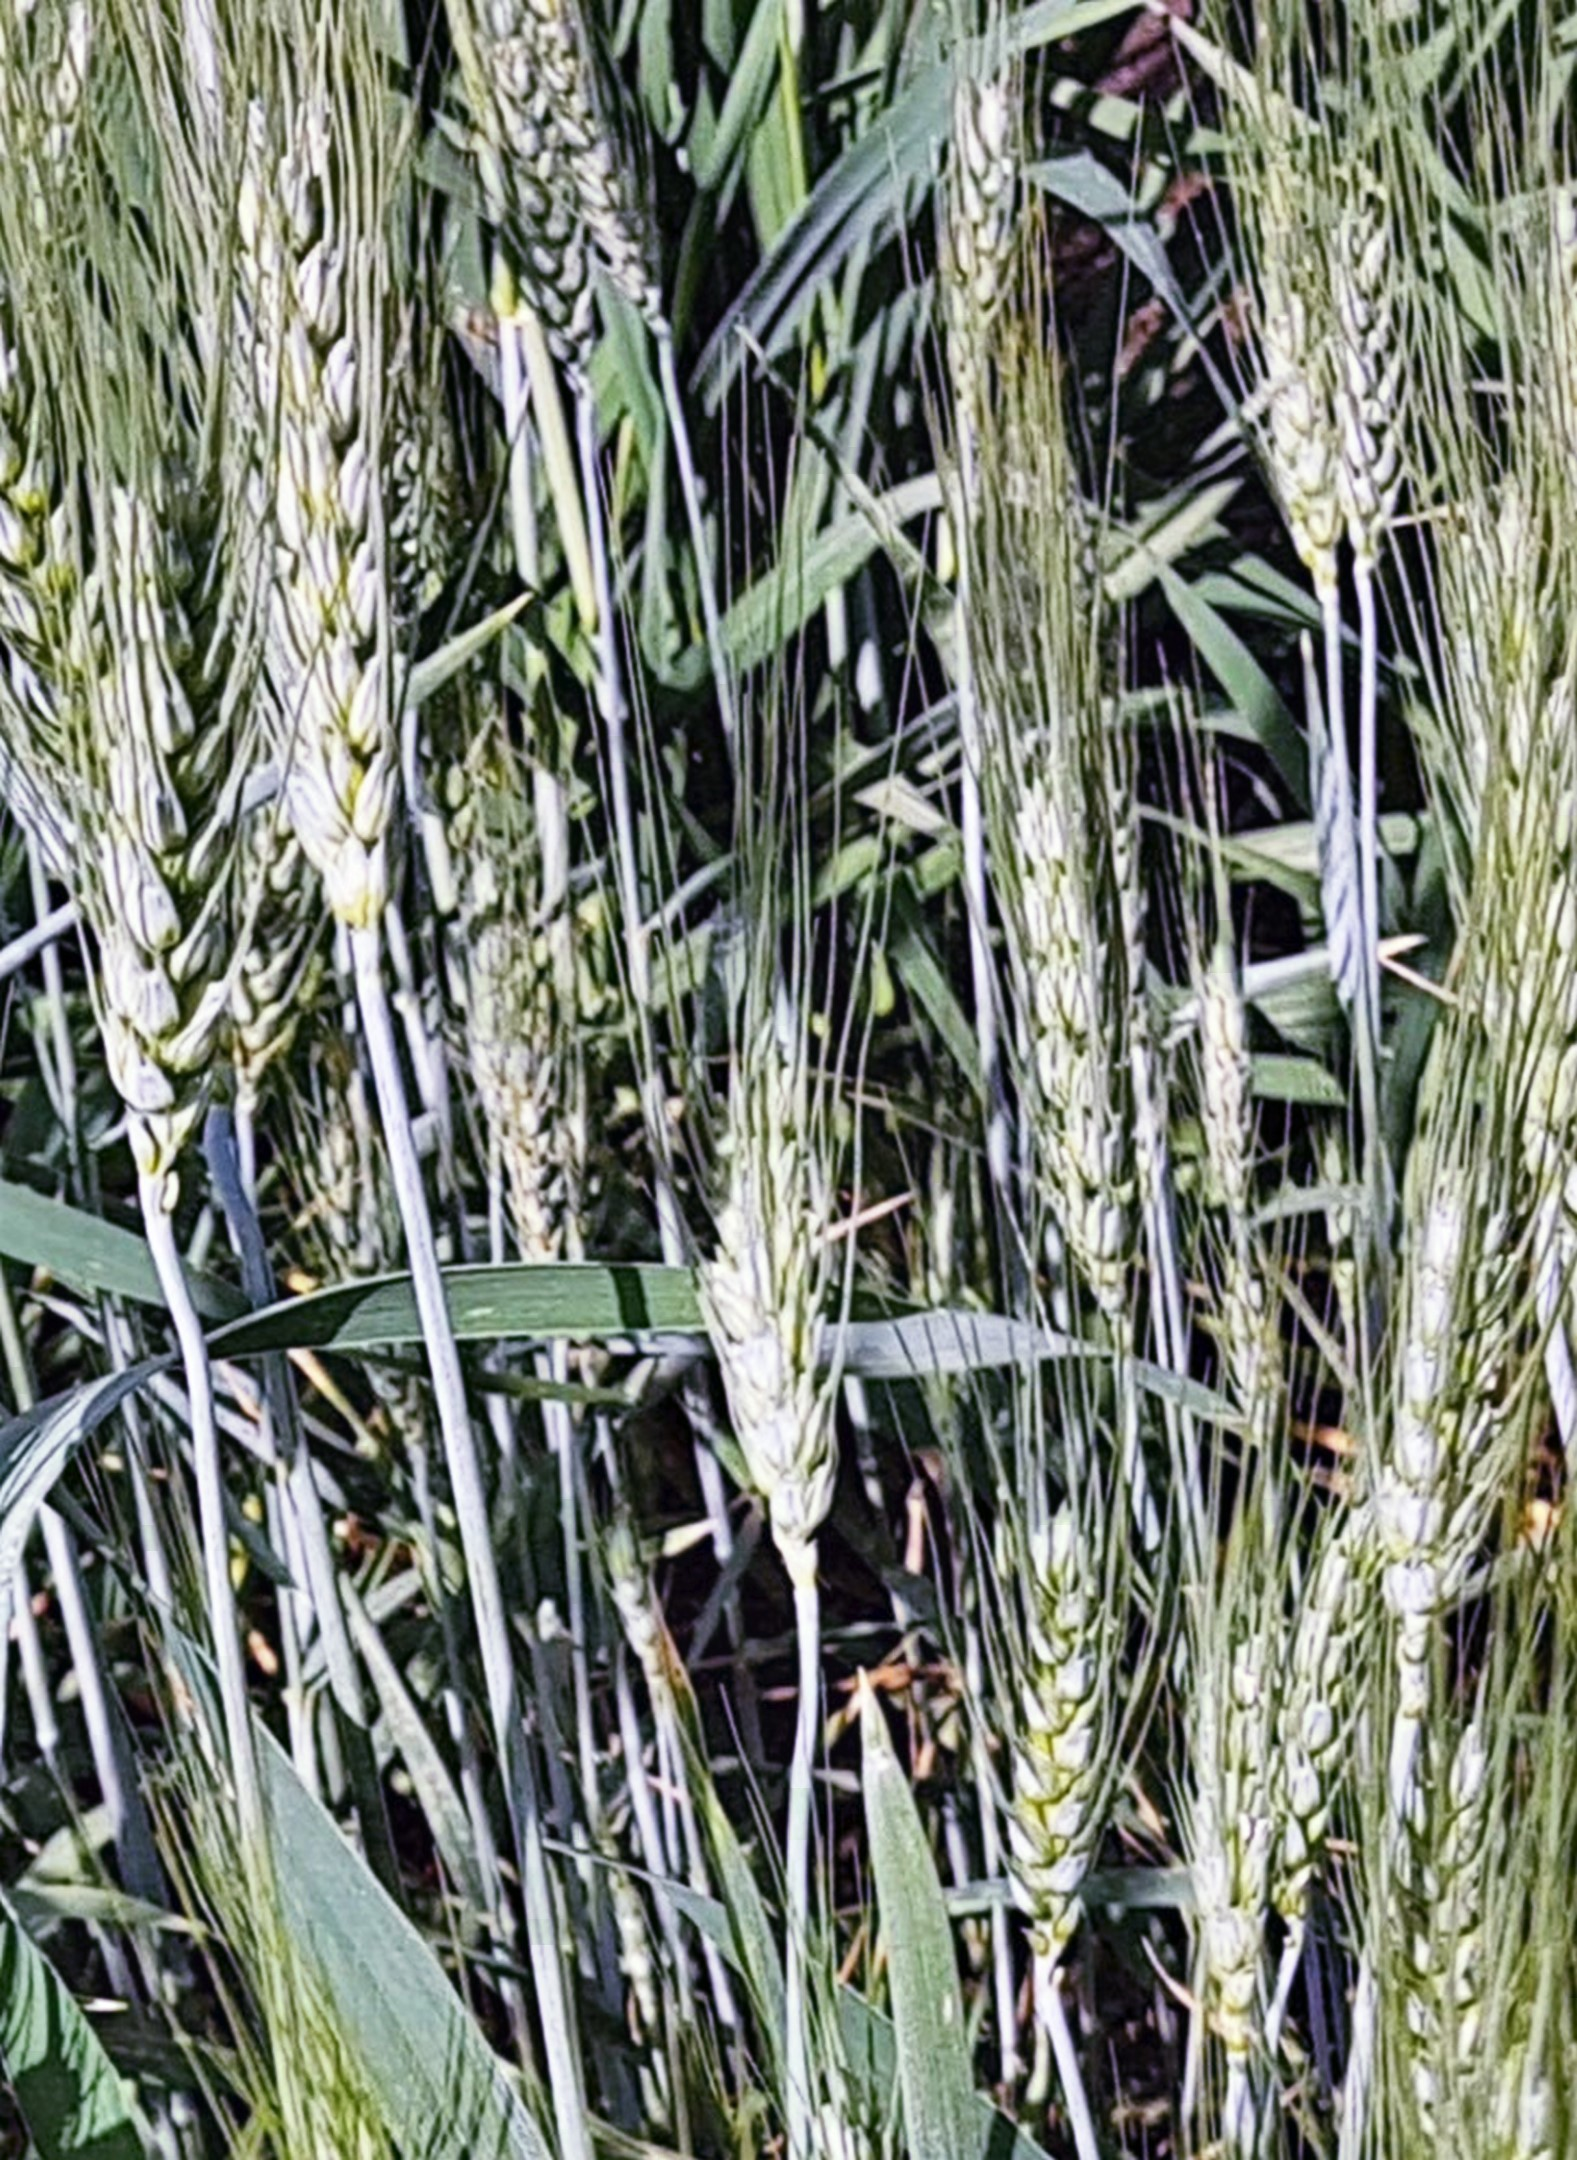Healthy Wheat: (186, 91, 438, 901), (978, 780, 1173, 1301), (955, 1482, 1132, 1960)
